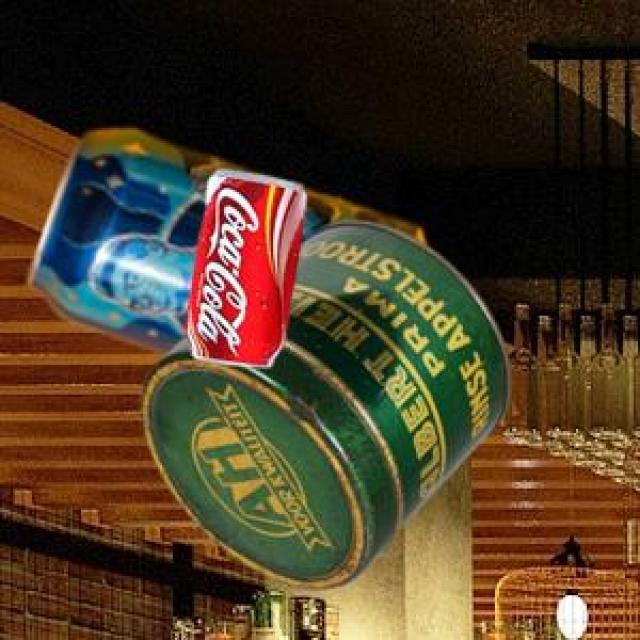Can: (138, 219, 507, 586), (27, 127, 421, 351), (182, 167, 304, 364)
